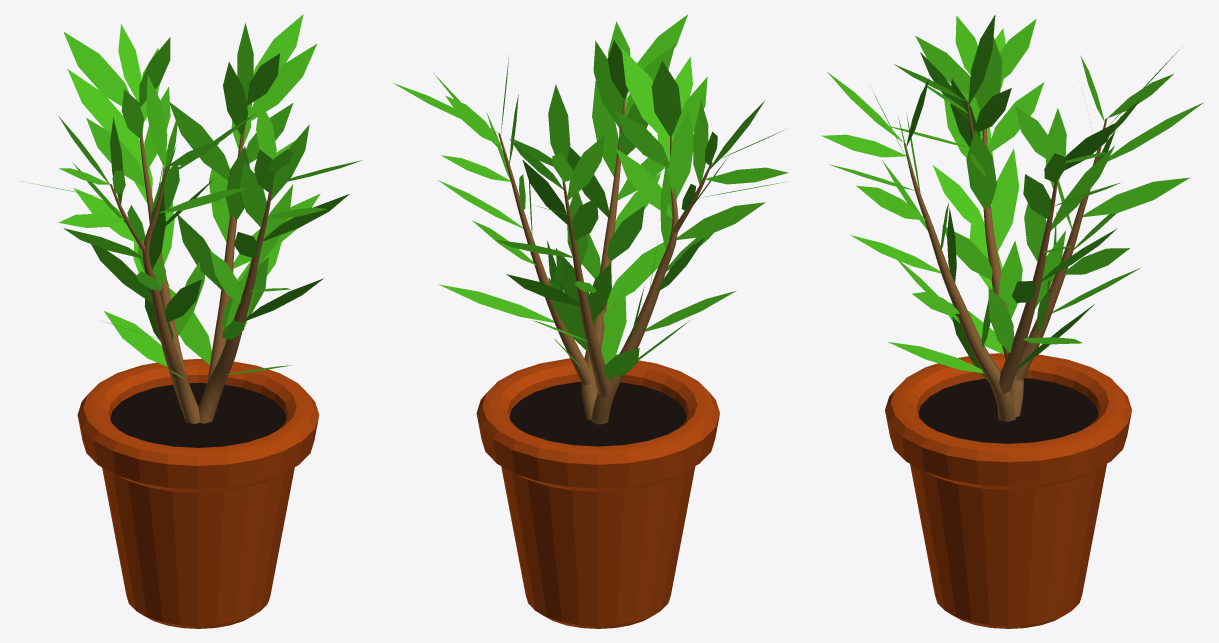
The model's file is tanaman.obj.
3 renders of one model, left to right at view 1: azimuth 30°, elevation 25°; view 2: azimuth 150°, elevation 25°; view 3: azimuth 270°, elevation 25°, orthographic. The views are drawn at different scales.
Parts seen in each view (by area): view 1: Plant_Cylinder; view 2: Plant_Cylinder; view 3: Plant_Cylinder.
Part boxes in pixels (x1=…): Plant_Cylinder: x1=20, y1=14, x2=362, y2=628; Plant_Cylinder: x1=393, y1=14, x2=788, y2=628; Plant_Cylinder: x1=821, y1=14, x2=1203, y2=628.
Size of the model in its own units: 0.7554 by 1.15 by 0.7187.
